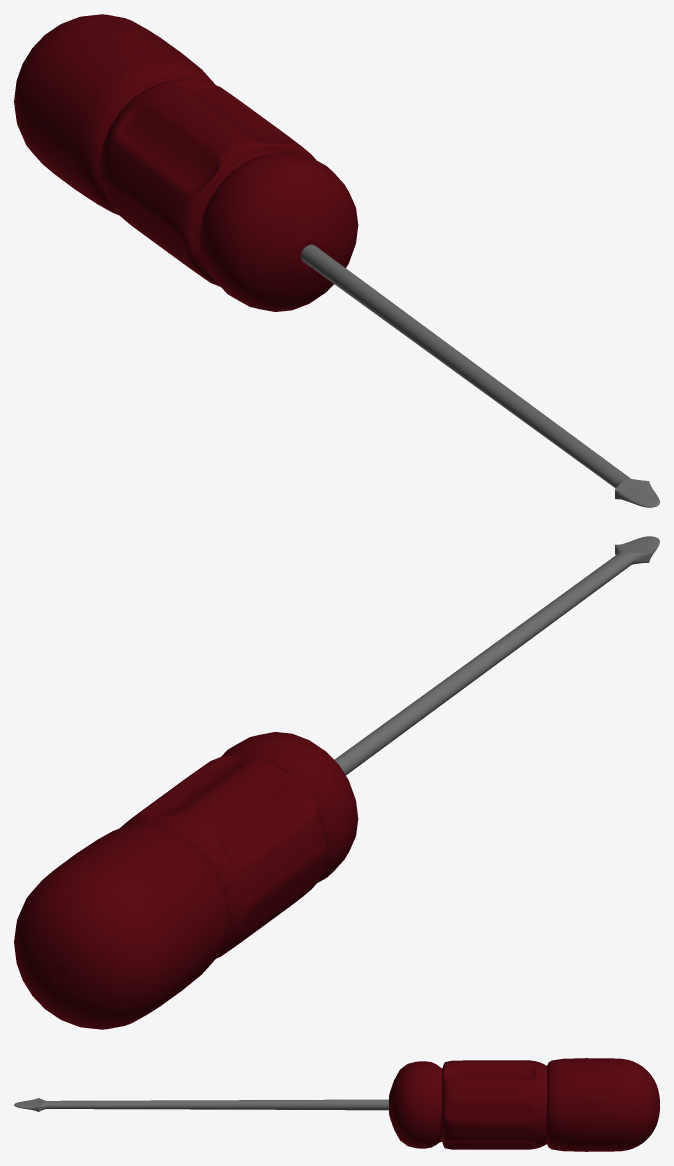
Rendered from screwdriver.fbx.
The picture shows the model from 3 angles, top to bottom: view 1: azimuth 30°, elevation 25°; view 2: azimuth 150°, elevation 25°; view 3: azimuth 270°, elevation 25°; orthographic projection. The views are drawn at different scales.
Visible parts, largest first — view 1: Base, Tip; view 2: Base, Tip; view 3: Base, Tip.
Part boxes in pixels (box(x1,y1,x2,y2)): Base: box(14, 14, 358, 311); Tip: box(301, 244, 659, 507); Base: box(14, 732, 358, 1029); Tip: box(334, 536, 659, 775); Base: box(389, 1058, 659, 1151); Tip: box(14, 1098, 388, 1111).
Size of the model in its own units: 25.52 by 25.52 by 175.
